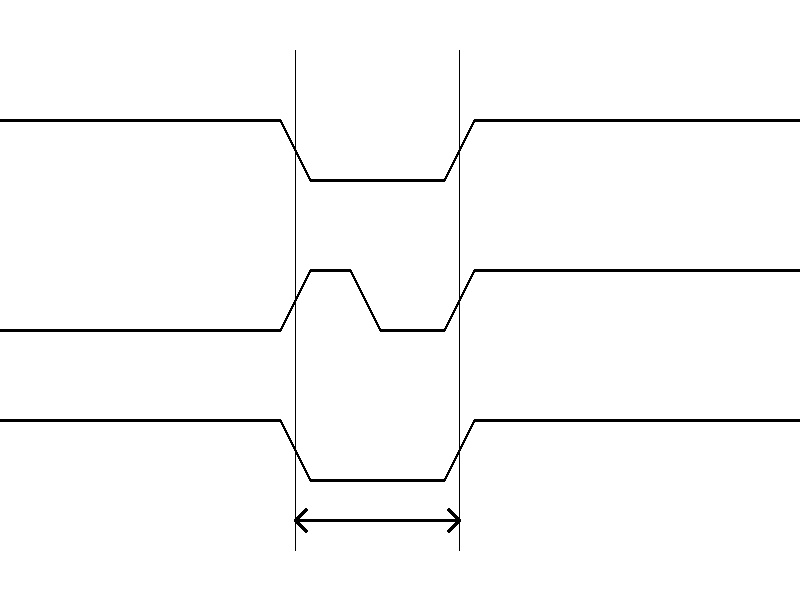double_arrow: (295, 505, 459, 535)
